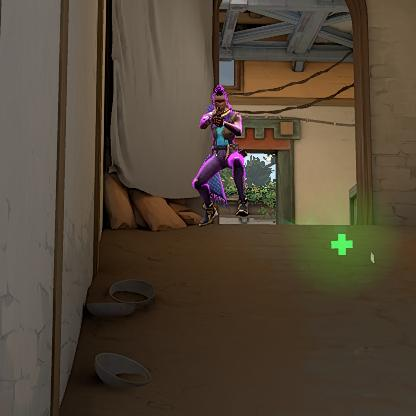enemyBody: (213, 113, 232, 148)
enemyHead: (214, 94, 226, 110)
